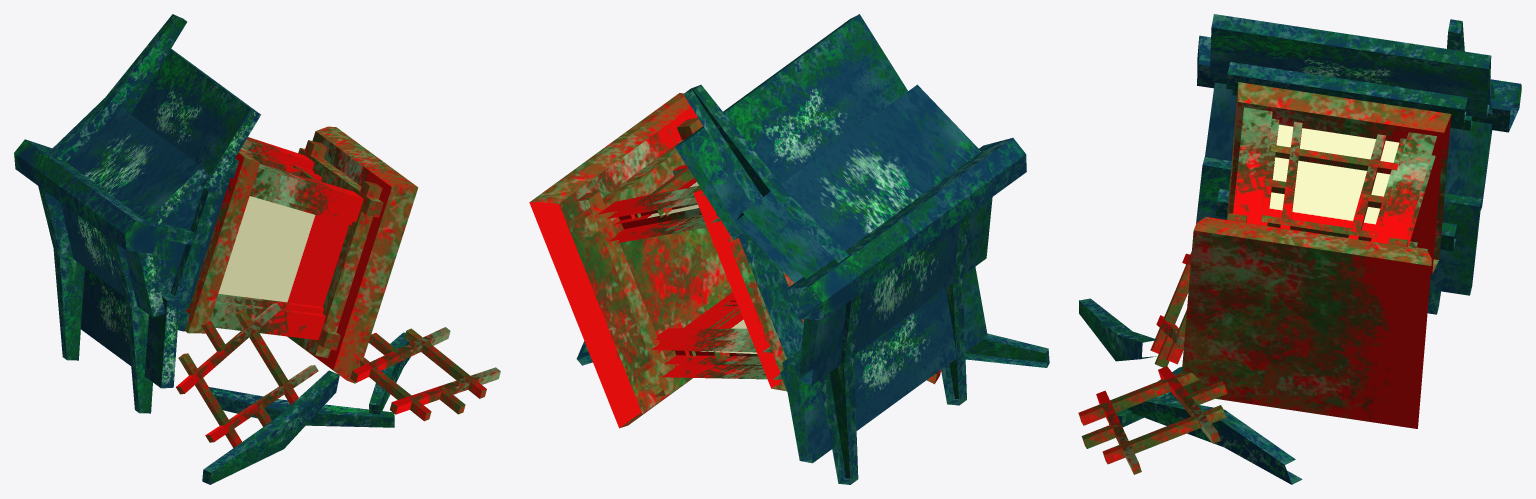
The model's file is Broken_Light_Head 1.fbx.
The picture shows the model from 3 angles, left to right: view 1: azimuth 30°, elevation 25°; view 2: azimuth 150°, elevation 25°; view 3: azimuth 270°, elevation 25°; orthographic projection. The views are drawn at different scales.
Parts seen in each view (by area): view 1: light_head_broken; view 2: light_head_broken; view 3: light_head_broken.
Part boxes in pixels (x1,y1,x2,y2): light_head_broken: (14, 14, 500, 484); light_head_broken: (529, 14, 1049, 484); light_head_broken: (1078, 14, 1521, 484).
Bounding box in the file's own units: 359 × 322 × 346.
